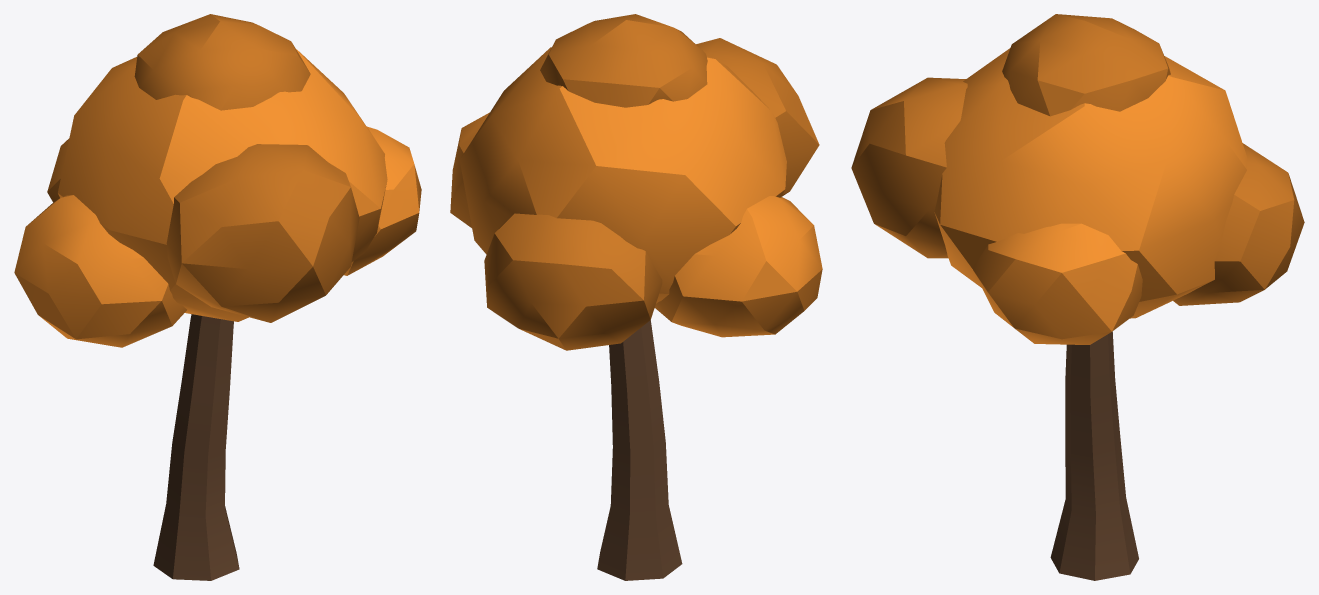
Rendered from AutumnTree.fbx.
3 views of the same model, side by side, from view 1: azimuth 30°, elevation 25°; view 2: azimuth 150°, elevation 25°; view 3: azimuth 270°, elevation 25° (orthographic). The views are drawn at different scales.
Parts seen in each view (by area): view 1: AutumnTree_Body, AutumnTree_Shade, AutumnTree_BarkDark; view 2: AutumnTree_Body, AutumnTree_Shade, AutumnTree_BarkDark; view 3: AutumnTree_Body, AutumnTree_Shade, AutumnTree_BarkDark.
Boxes of the visible parts, x1=… form: AutumnTree_Body: x1=14, y1=49, x2=421, y2=347; AutumnTree_Shade: x1=47, y1=14, x2=359, y2=322; AutumnTree_BarkDark: x1=153, y1=314, x2=239, y2=580; AutumnTree_Body: x1=450, y1=47, x2=822, y2=337; AutumnTree_Shade: x1=484, y1=14, x2=819, y2=350; AutumnTree_BarkDark: x1=597, y1=320, x2=682, y2=580; AutumnTree_Body: x1=934, y1=48, x2=1247, y2=344; AutumnTree_Shade: x1=851, y1=14, x2=1304, y2=305; AutumnTree_BarkDark: x1=1050, y1=331, x2=1138, y2=580.
Bounding box in the file's own units: 640 × 903 × 673.
